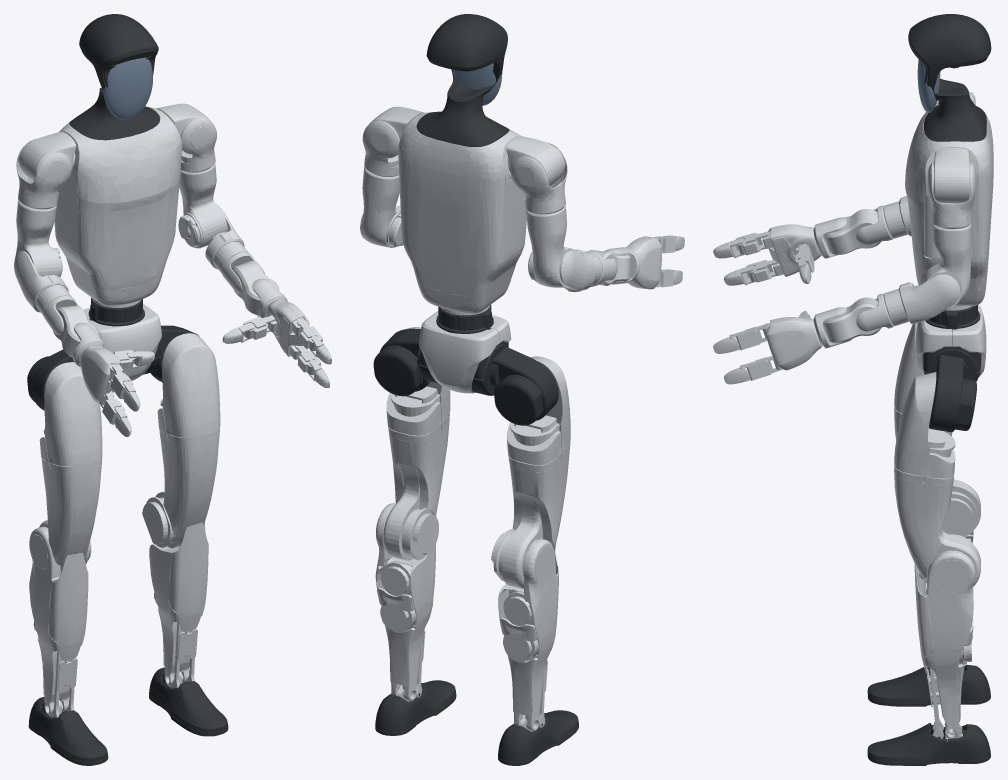
Rendered from unitree-g1.glb.
3 views of the same model, side by side, from view 1: azimuth 30°, elevation 25°; view 2: azimuth 150°, elevation 25°; view 3: azimuth 270°, elevation 25° (orthographic). The views are drawn at different scales.
Parts seen in each view (by area): view 1: torso_link_visual, right_knee_link_visual, left_knee_link_visual, left_hip_yaw_link_visual, head_link_visual, left_hip_roll_link_visual, right_hip_roll_link_visual, right_hip_yaw_link_visual, left_shoulder_yaw_link_visual, right_ankle_roll_link_visual, left_ankle_roll_link_visual, face_visor (+20 smaller); view 2: torso_link_visual, right_knee_link_visual, head_link_visual, left_knee_link_visual, left_hip_yaw_link_visual, right_hip_yaw_link_visual, pelvis_contour_link_visual, right_hip_pitch_link_visual, right_hip_roll_link_visual, left_shoulder_yaw_link_visual, left_hip_pitch_link_visual, left_ankle_roll_link_visual (+13 smaller); view 3: left_knee_link_visual, head_link_visual, torso_link_visual, left_hip_yaw_link_visual, left_hip_roll_link_visual, left_ankle_roll_link_visual, left_hip_pitch_link_visual, right_ankle_roll_link_visual, left_elbow_link_visual, left_hand_palm_link_visual, left_shoulder_yaw_link_visual, pelvis_contour_link_visual (+18 smaller).
Part boxes in pixels (x1,y1,x2,y2): torso_link_visual: [54, 106, 182, 290]; right_knee_link_visual: [29, 526, 88, 717]; left_knee_link_visual: [149, 522, 208, 688]; left_hip_yaw_link_visual: [142, 429, 219, 548]; head_link_visual: [69, 14, 159, 140]; left_hip_roll_link_visual: [157, 333, 220, 437]; right_hip_roll_link_visual: [39, 362, 102, 466]; right_hip_yaw_link_visual: [39, 457, 102, 571]; left_shoulder_yaw_link_visual: [178, 163, 227, 248]; right_ankle_roll_link_visual: [28, 697, 108, 765]; left_ankle_roll_link_visual: [149, 667, 228, 736]; face_visor: [103, 57, 152, 119]; torso_link_visual: [398, 112, 526, 298]; right_knee_link_visual: [498, 538, 558, 731]; head_link_visual: [416, 14, 509, 146]; left_knee_link_visual: [375, 503, 435, 701]; left_hip_yaw_link_visual: [383, 412, 449, 560]; right_hip_yaw_link_visual: [491, 442, 570, 588]; pelvis_contour_link_visual: [419, 311, 511, 393]; right_hip_pitch_link_visual: [489, 347, 558, 425]; right_hip_roll_link_visual: [506, 356, 570, 465]; left_shoulder_yaw_link_visual: [360, 167, 402, 247]; left_hip_pitch_link_visual: [373, 328, 430, 396]; left_ankle_roll_link_visual: [375, 680, 456, 735]; left_knee_link_visual: [914, 550, 975, 738]; head_link_visual: [908, 14, 991, 141]; torso_link_visual: [905, 103, 993, 290]; left_hip_yaw_link_visual: [894, 464, 980, 586]; left_hip_roll_link_visual: [894, 372, 955, 478]; left_ankle_roll_link_visual: [867, 723, 990, 765]; left_hip_pitch_link_visual: [929, 355, 976, 432]; right_ankle_roll_link_visual: [867, 665, 990, 706]; left_elbow_link_visual: [883, 274, 960, 326]; left_hand_palm_link_visual: [762, 317, 821, 370]; left_shoulder_yaw_link_visual: [923, 224, 971, 308]; pelvis_contour_link_visual: [915, 305, 986, 376].
Bounding box in the file's own units: 0.4199 × 1.32 × 0.4738.
